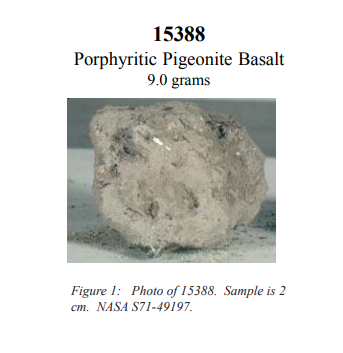Basalt: (74, 97, 273, 254)
